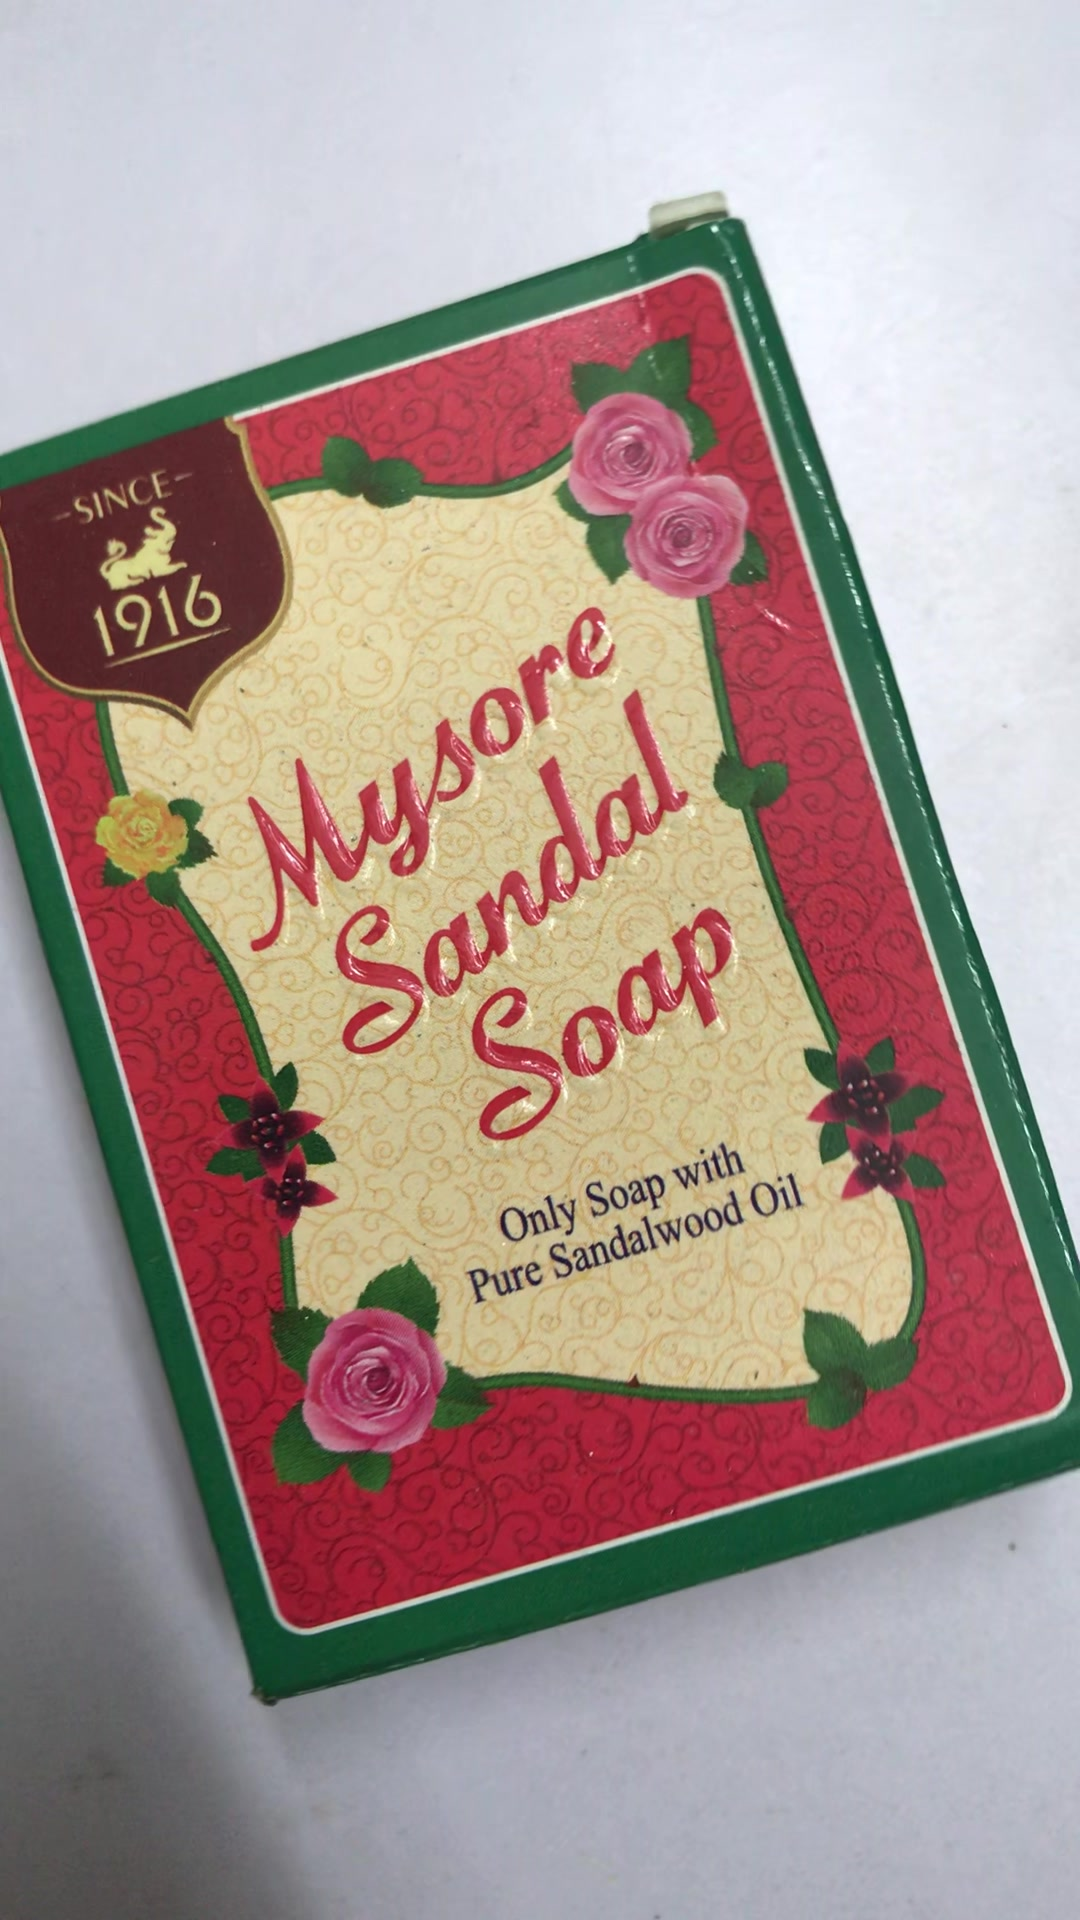mysore sandal soap: (9, 229, 1080, 1691)
